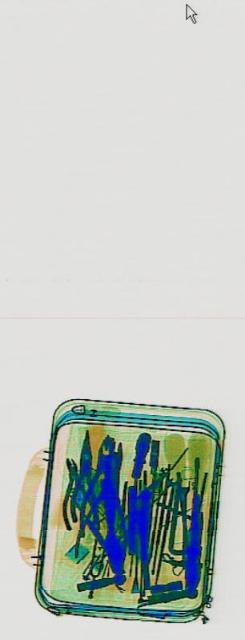Pliers: (72, 446, 129, 566), (77, 423, 122, 549), (68, 428, 100, 530), (57, 447, 93, 533)
